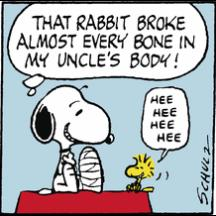snoopy: (30, 84, 116, 196)
